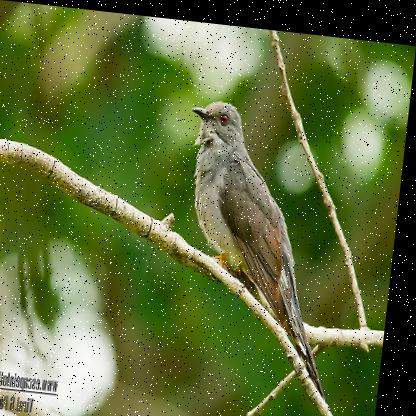Burung: (171, 92, 359, 391)
